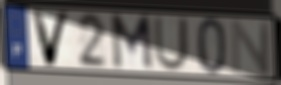0: (196, 16, 228, 77)
2: (76, 12, 108, 70)
M: (109, 13, 156, 74)
N: (230, 19, 273, 76)
U: (152, 16, 190, 73)
V: (28, 8, 73, 68)
